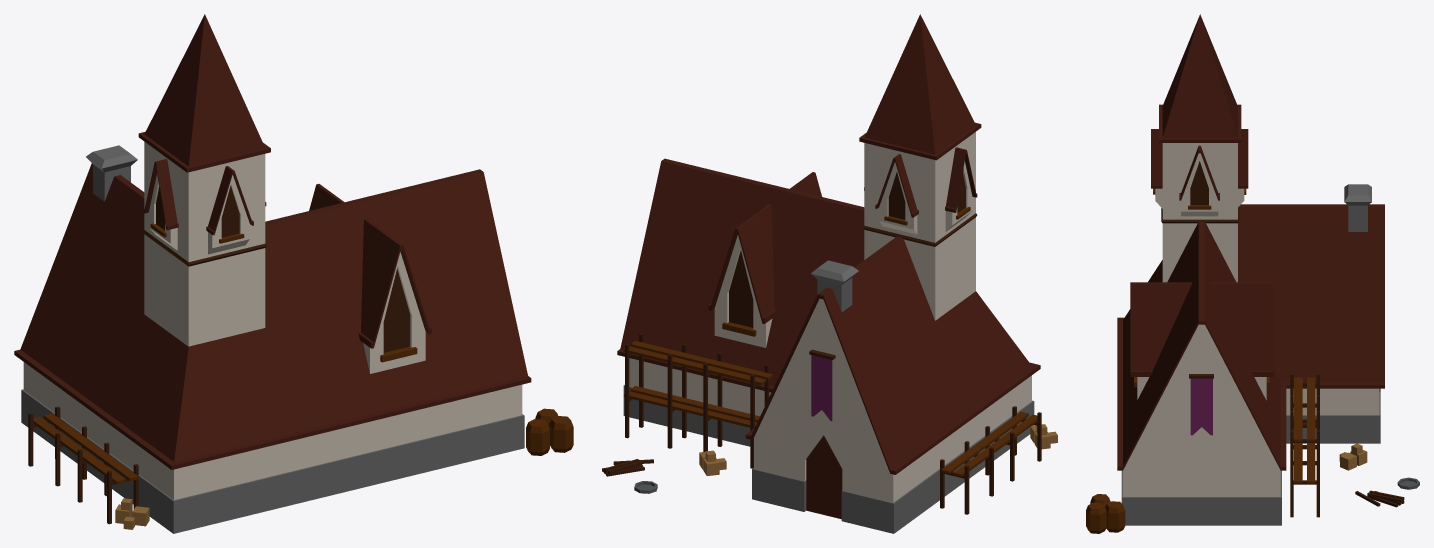
The model's file is HospitalBuildPhase3v1.fbx.
3 renders of one model, left to right at view 1: azimuth 30°, elevation 25°; view 2: azimuth 150°, elevation 25°; view 3: azimuth 270°, elevation 25°, orthographic. The views are drawn at different scales.
Visible parts, largest first — view 1: Plane.1174; view 2: Plane.1174; view 3: Plane.1174.
Part boxes in pixels (x1=…): Plane.1174: x1=14, y1=14, x2=573, y2=533; Plane.1174: x1=602, y1=14, x2=1057, y2=533; Plane.1174: x1=1086, y1=14, x2=1419, y2=533.
Size of the model in its own units: 289 by 308 by 233.
